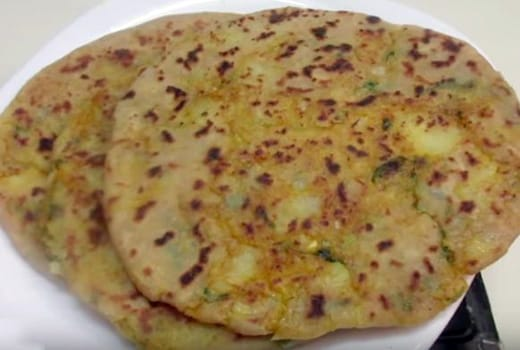aloo_paratha: (1, 4, 517, 324)
